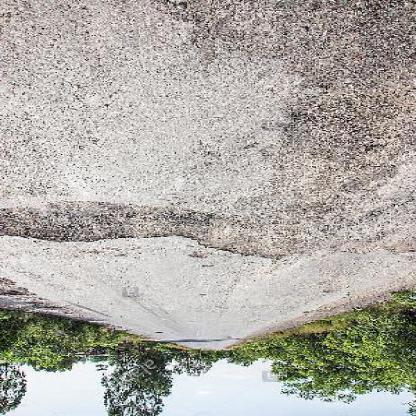pothole: (2, 201, 180, 246), (195, 208, 301, 265)
